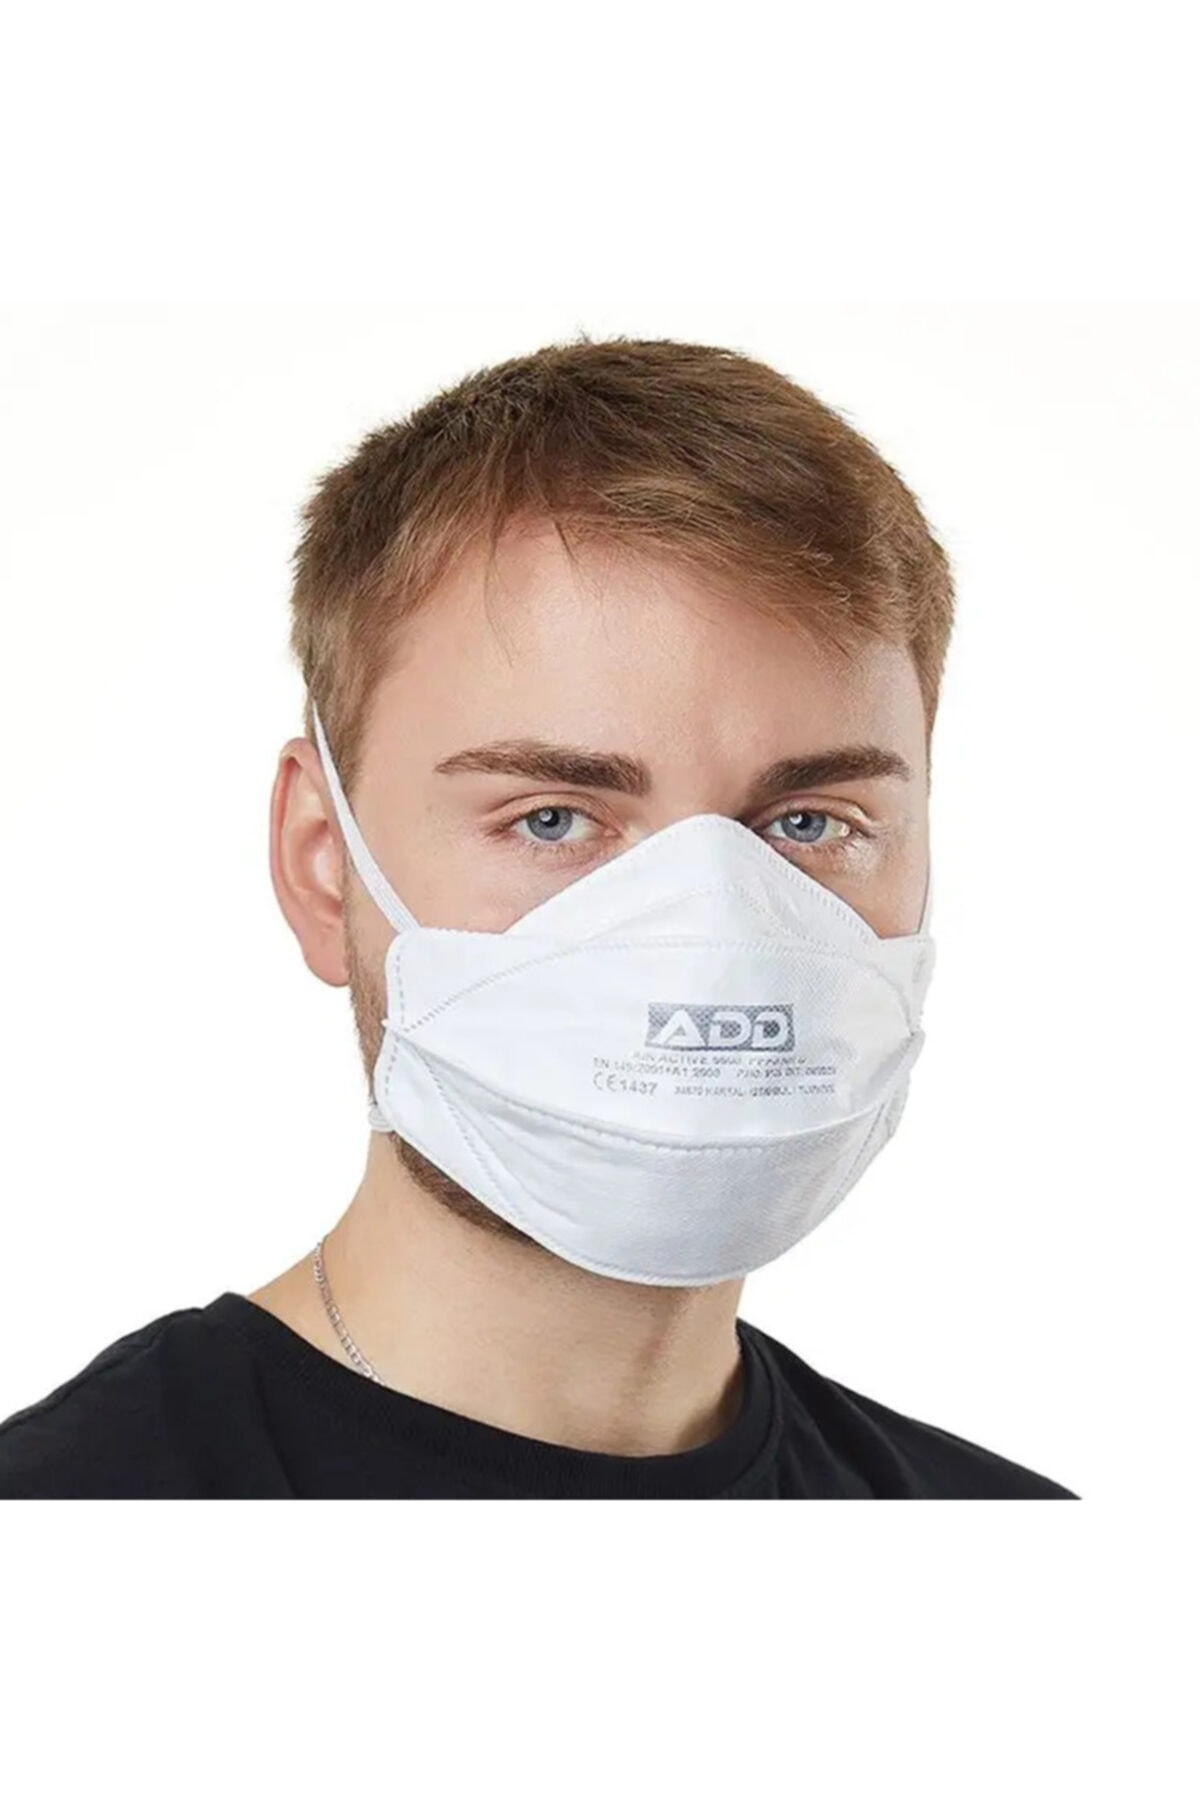maske: (339, 797, 929, 1286)
